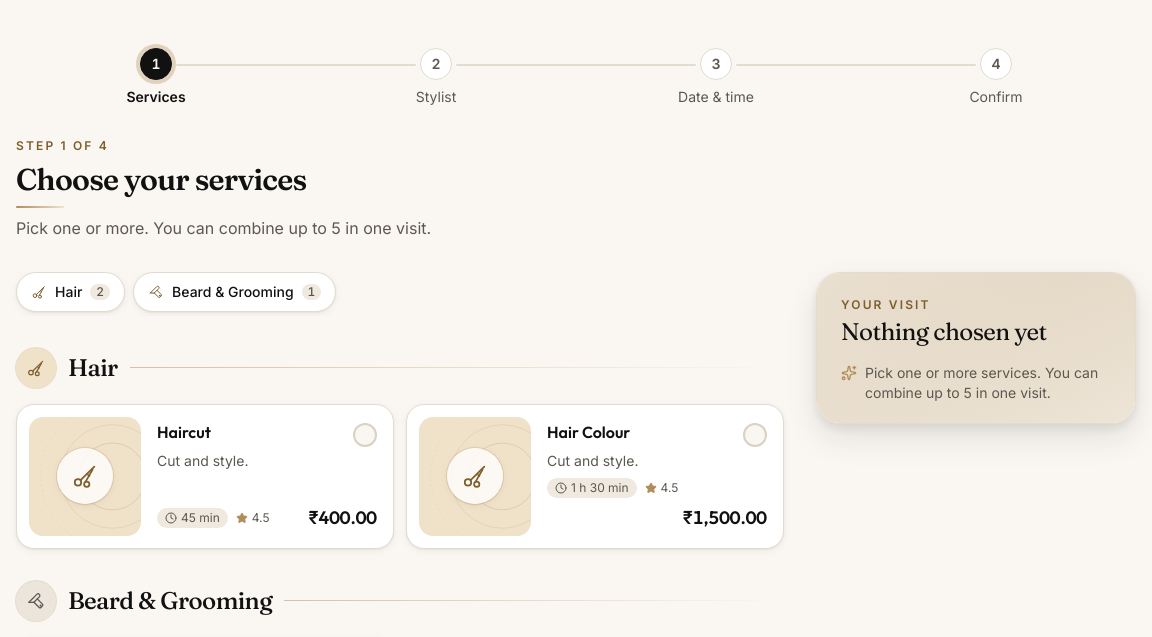
Scenario: booking wizard look (05 §4.1) › services step: eyebrow, checked cards and one Continue in the running-total bar
This screenshot has width=1152, height=637.
Expected: the text "Step 1 of 4" is shown, [16,138,109,152]
Expected: the button "Continue" is not shown
Click the button "Haircut Cut and style. 45 min 4.5 ₹400.00" at (85, 476), box [16,404,394,549]
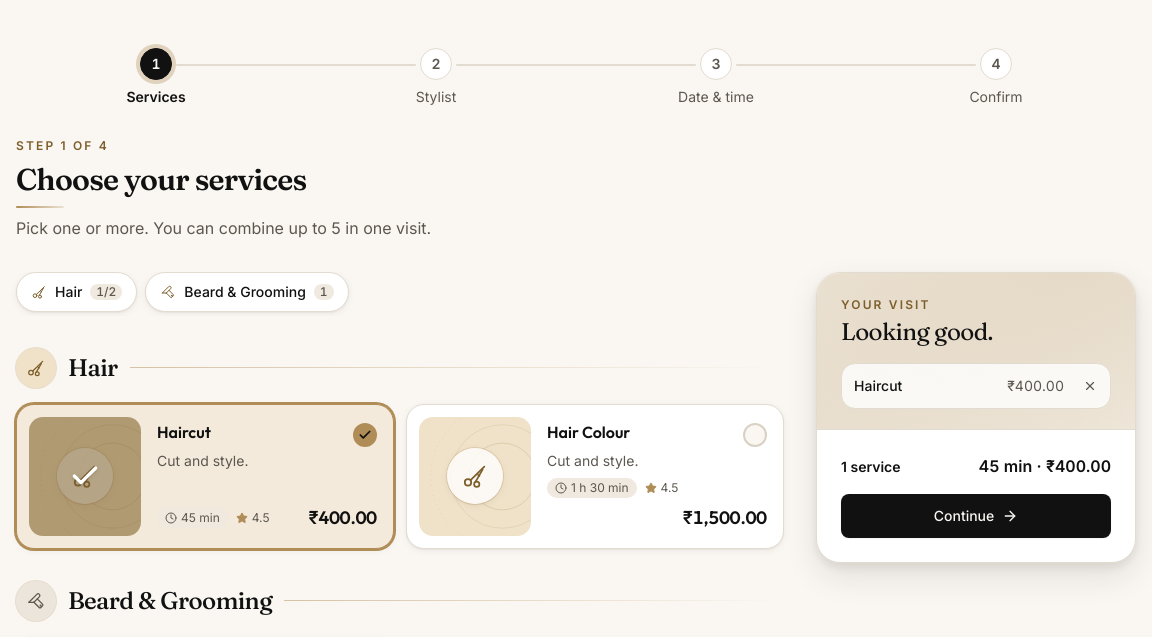
Expected: the text "1 service" is shown, [841,458,900,475]
Expected: the text "45 min · ₹400.00" is shown, [979,454,1111,478]
Expected: the number of buttons "Continue" is 1, [841,494,1111,538]
